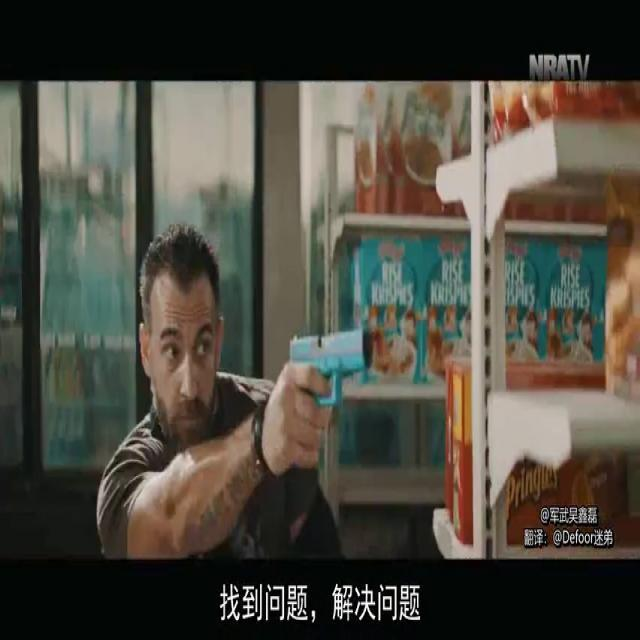gun-knife-thesis - v11 Yolov5 augmented: (275, 314, 369, 462)
